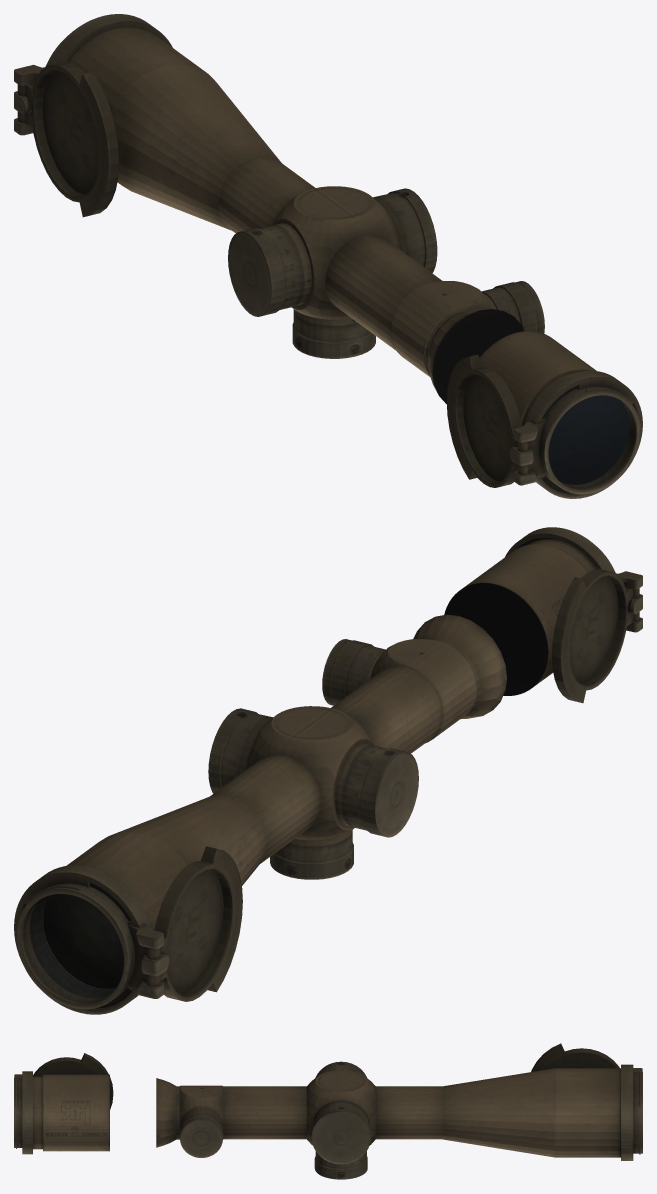
3 views of the same model, one above another, from view 1: azimuth 30°, elevation 25°; view 2: azimuth 150°, elevation 25°; view 3: azimuth 270°, elevation 25° (orthographic). The views are drawn at different scales.
Visible parts, largest first — view 1: TW_61714eec290d254f5e6b2ffc_PZ_Import; view 2: TW_61714eec290d254f5e6b2ffc_PZ_Import; view 3: TW_61714eec290d254f5e6b2ffc_PZ_Import.
Boxes of the visible parts, x1,y1,x2,y2 form: TW_61714eec290d254f5e6b2ffc_PZ_Import: (14, 14, 642, 498); TW_61714eec290d254f5e6b2ffc_PZ_Import: (14, 527, 642, 1014); TW_61714eec290d254f5e6b2ffc_PZ_Import: (14, 1043, 642, 1179).
Bounding box in the file's own units: 0.0453 × 0.2325 × 0.0412.
Materials: 1 (1 with a texture image).
